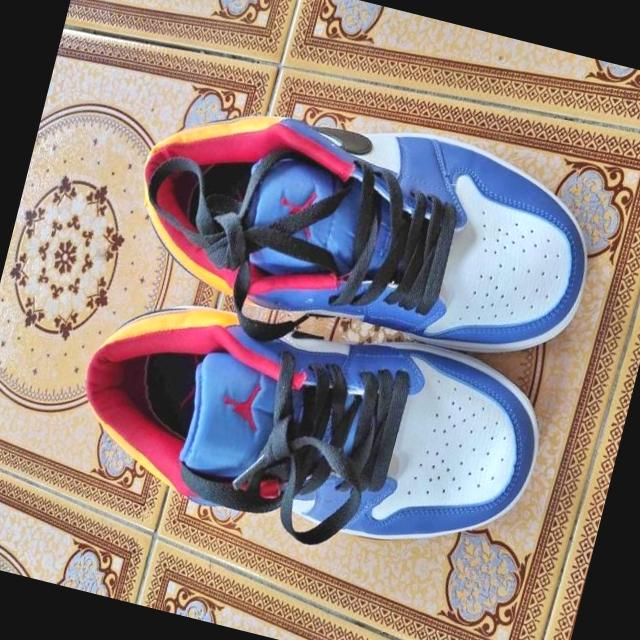nike_fake_jordan: (62, 264, 556, 582), (118, 68, 610, 382)
